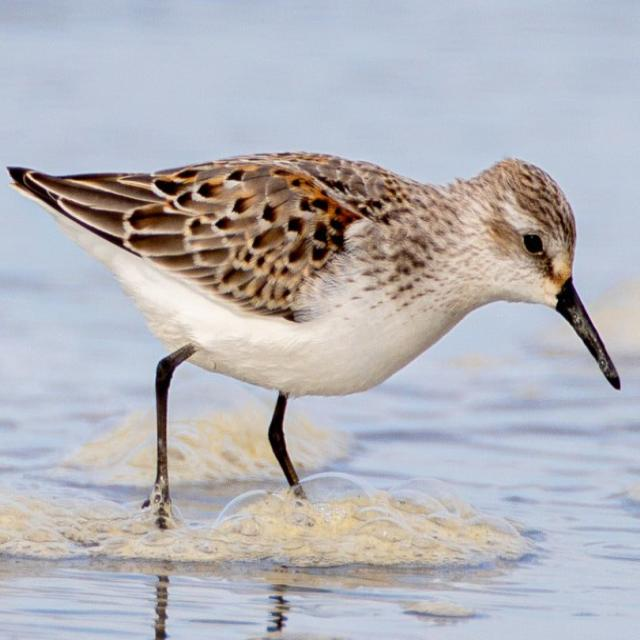Sandpiper: (4, 145, 623, 523)
